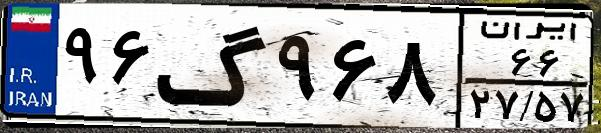2: (470, 70, 495, 125)
5: (535, 70, 560, 125)
6: (330, 28, 385, 110), (110, 28, 156, 98), (537, 27, 568, 80), (508, 27, 537, 80)
7: (560, 70, 590, 125), (495, 70, 520, 125)
8: (385, 28, 445, 110)
9: (270, 28, 330, 110), (57, 26, 110, 100)
گ: (156, 12, 270, 120)
